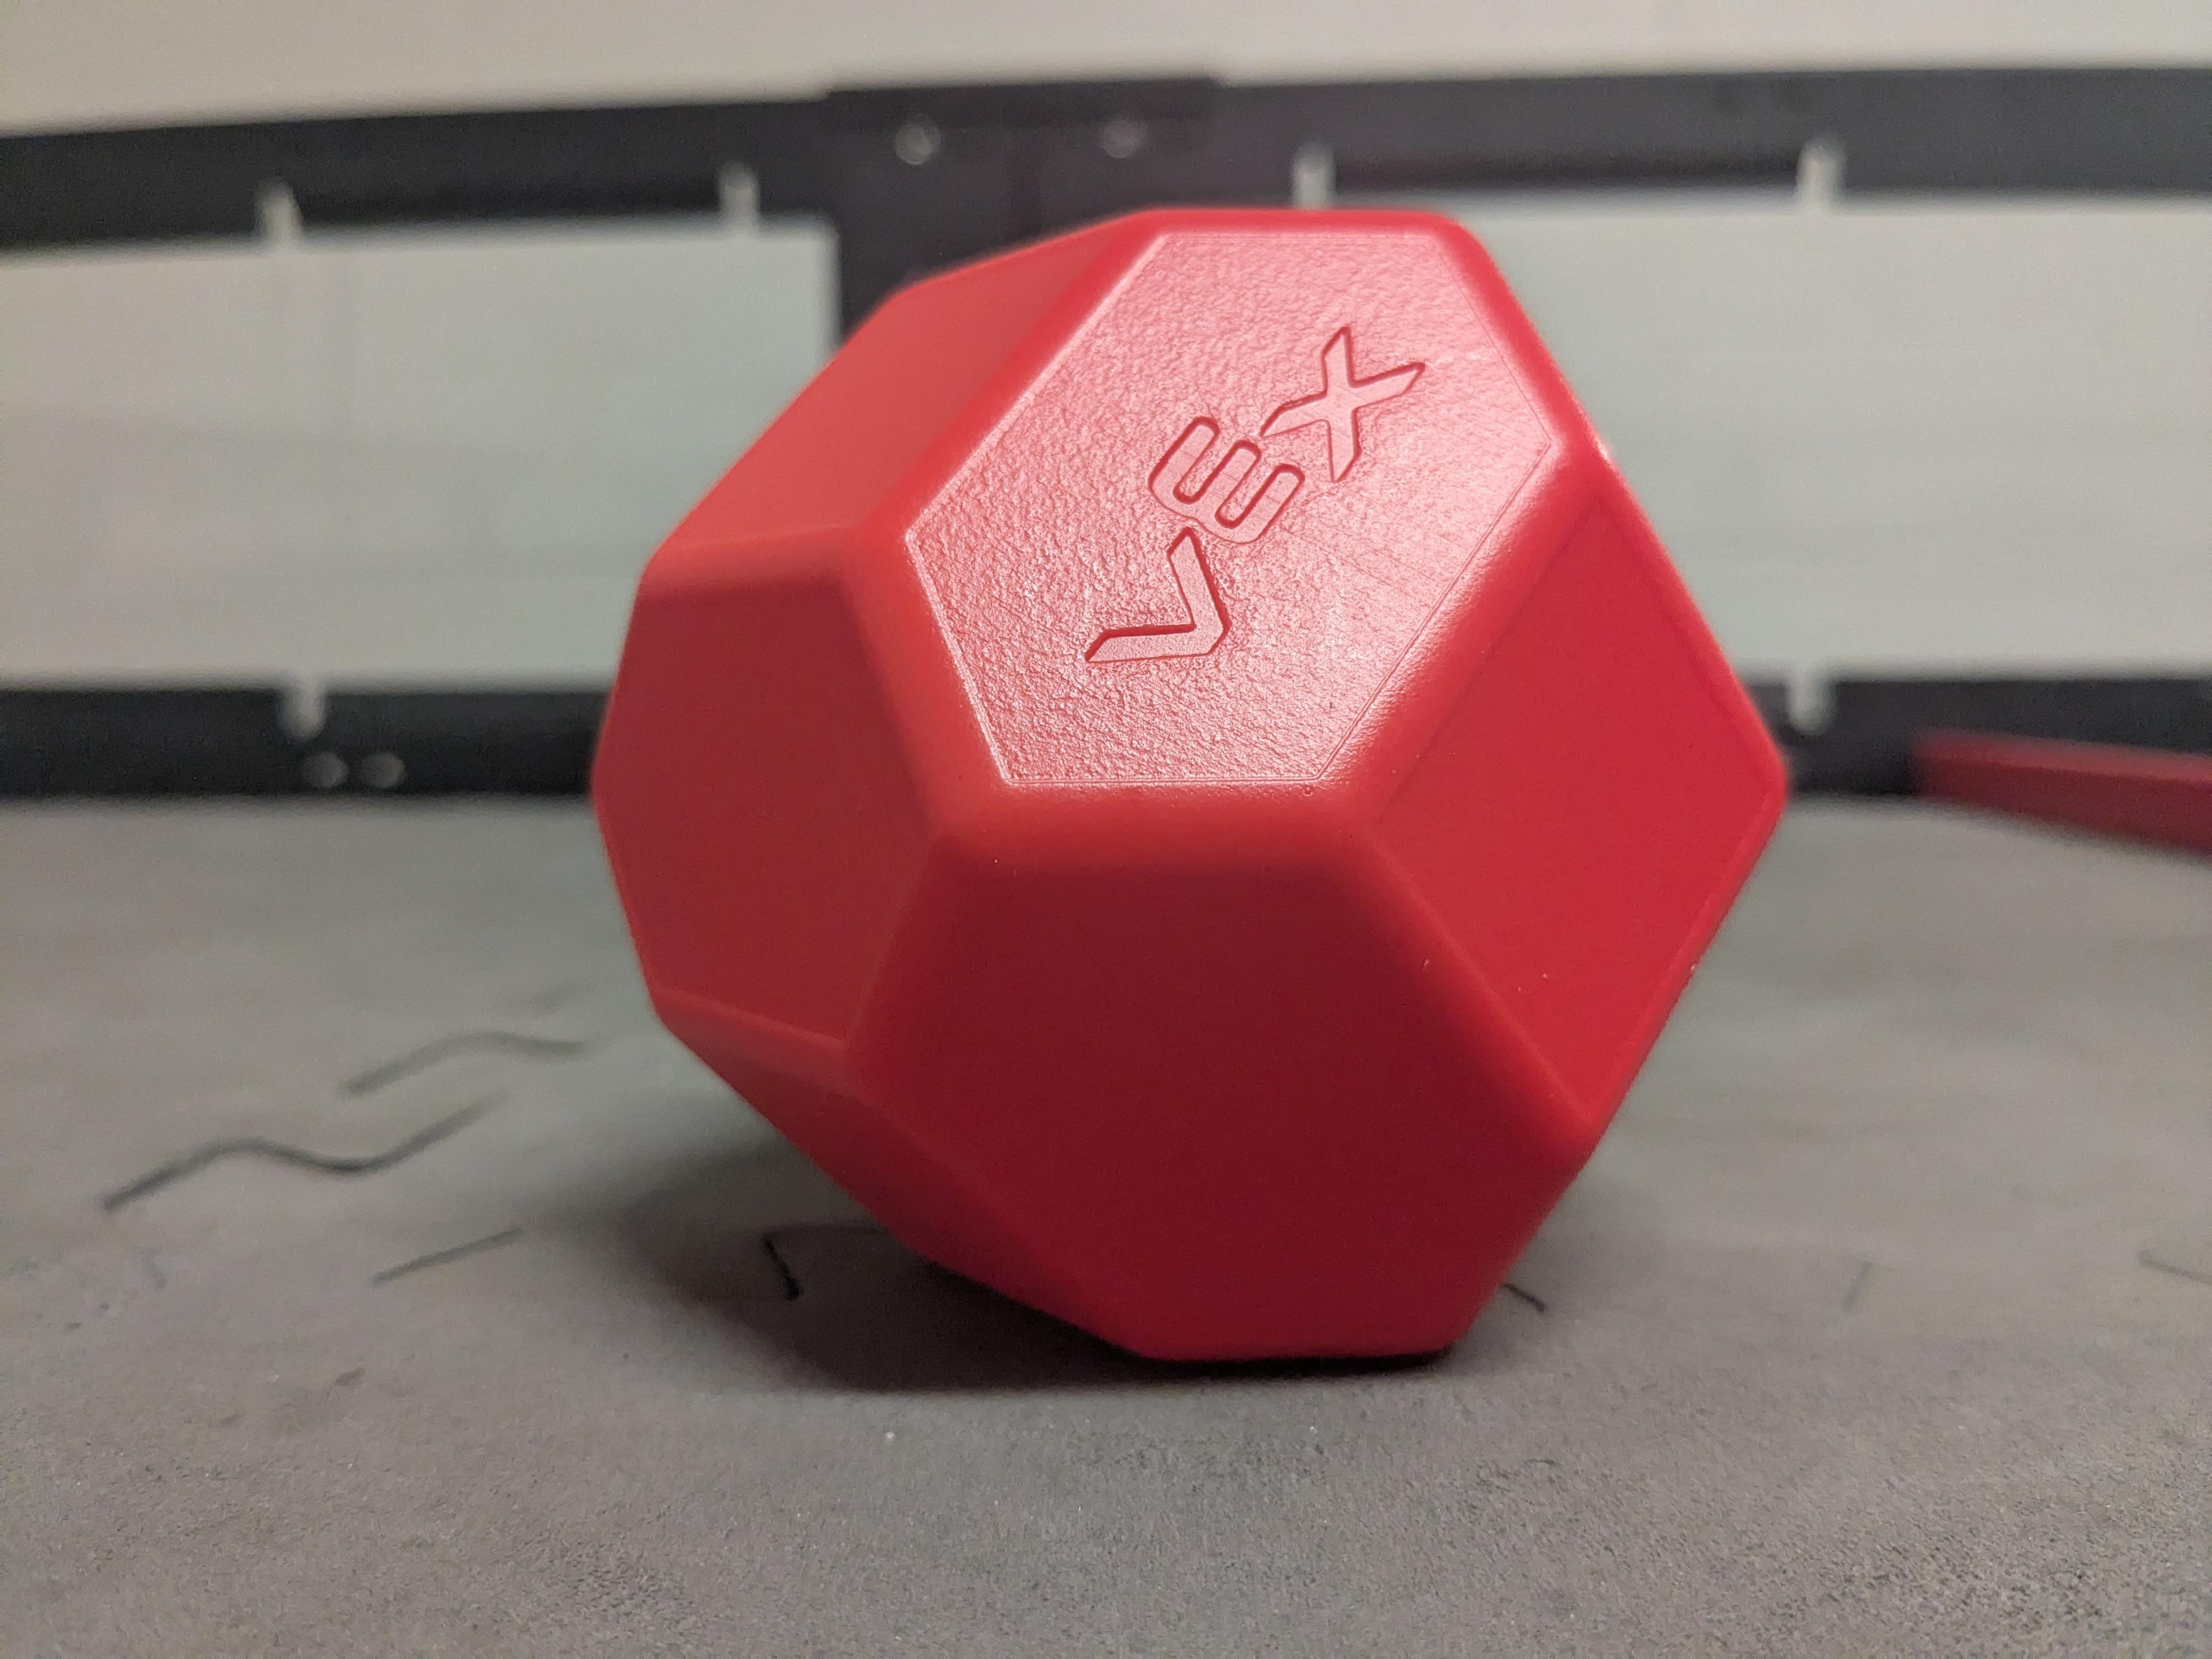Vex-Pieces-RED: (596, 211, 1784, 1358)
